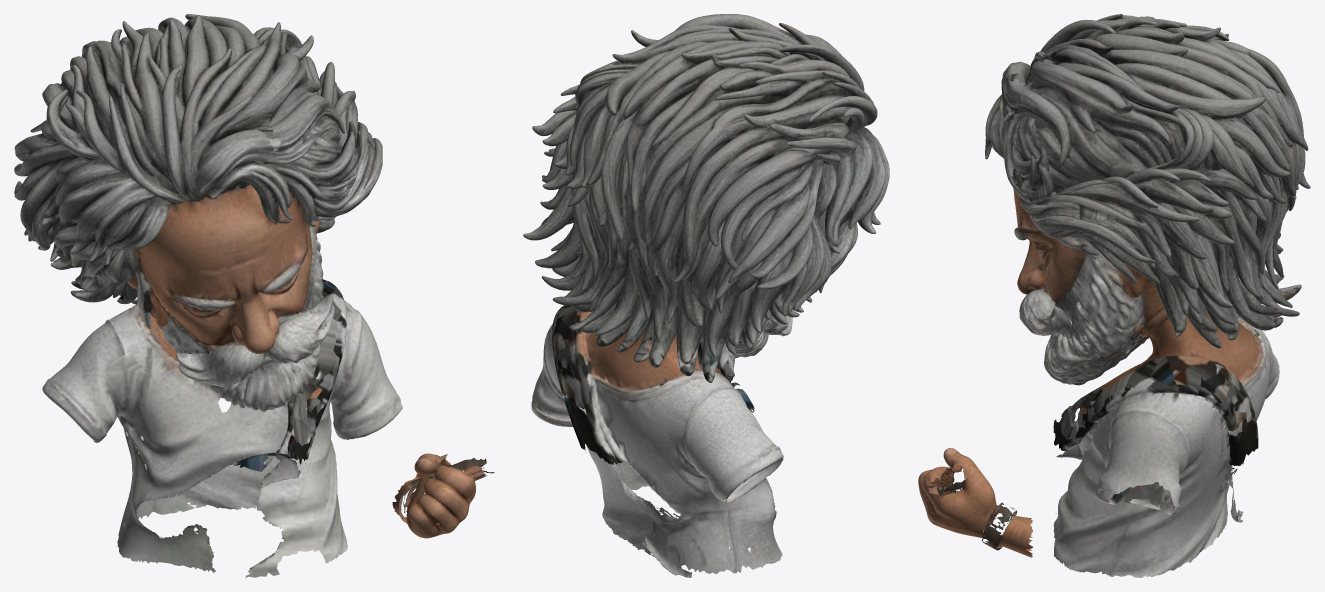
Rendered from bob-peek.glb.
3 renders of one model, left to right at view 1: azimuth 30°, elevation 25°; view 2: azimuth 150°, elevation 25°; view 3: azimuth 270°, elevation 25°, orthographic. The views are drawn at different scales.
Parts seen in each view (by area): view 1: head, hand; view 2: head; view 3: head, hand.
Boxes of the visible parts, <box> form: head: <box>14,14,402,577</box>; hand: <box>392,453,494,538</box>; head: <box>523,14,889,577</box>; head: <box>985,14,1310,577</box>; hand: <box>918,448,1033,557</box>.
Size of the model in its own units: 0.7257 by 1.07 by 0.7844.
Materials: 1 (1 with a texture image).
